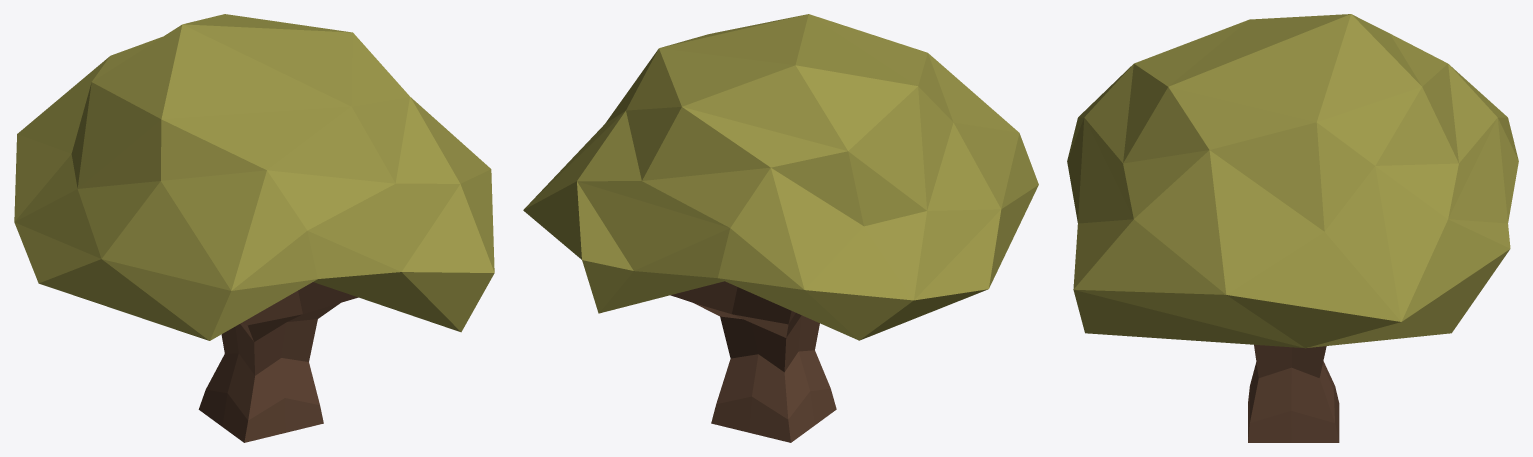
The model's file is Tree_34_Yellow.fbx.
3 views of the same model, side by side, from view 1: azimuth 30°, elevation 25°; view 2: azimuth 150°, elevation 25°; view 3: azimuth 270°, elevation 25° (orthographic).
Visible parts, largest first — view 1: Tree_34_Yellow_Part_1, Tree_34_Yellow_Part_2; view 2: Tree_34_Yellow_Part_1, Tree_34_Yellow_Part_2; view 3: Tree_34_Yellow_Part_1, Tree_34_Yellow_Part_2.
Part boxes in pixels (<box>): Tree_34_Yellow_Part_1: <box>14,14,494,340</box>; Tree_34_Yellow_Part_2: <box>198,282,358,442</box>; Tree_34_Yellow_Part_1: <box>523,14,1038,340</box>; Tree_34_Yellow_Part_2: <box>670,281,836,442</box>; Tree_34_Yellow_Part_1: <box>1067,14,1518,348</box>; Tree_34_Yellow_Part_2: <box>1248,344,1339,442</box>.
Size of the model in its own units: 804 by 710 by 755.
